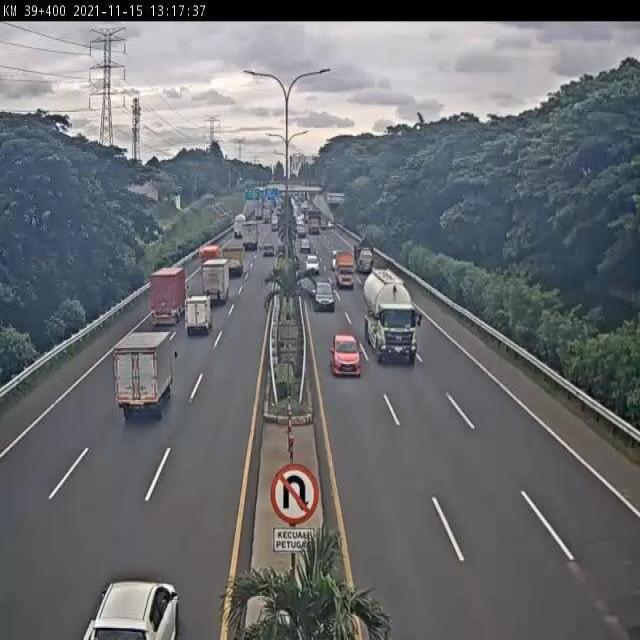car: (331, 335, 361, 376), (313, 281, 335, 311)
truck-l-: (367, 270, 424, 366)
truck-m-: (114, 332, 181, 420), (149, 265, 193, 327), (201, 261, 230, 303), (221, 245, 246, 278)
truck-s-: (185, 293, 215, 336), (354, 236, 376, 276), (337, 253, 357, 290)
